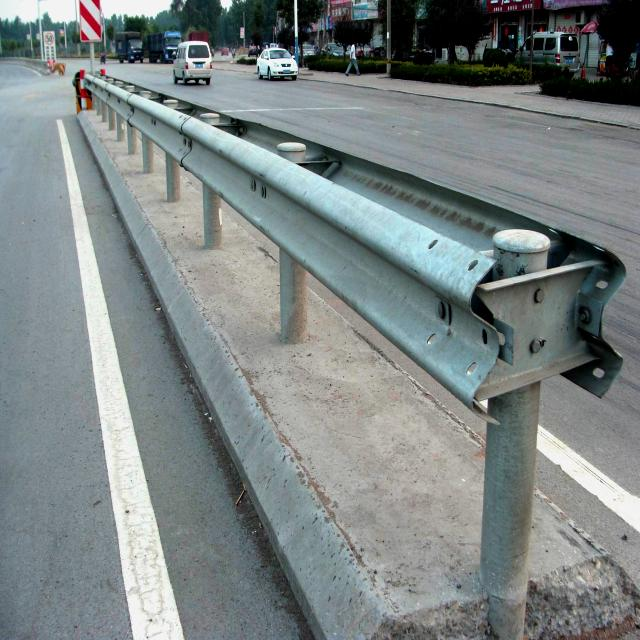Guard rail: (86, 77, 499, 406)
